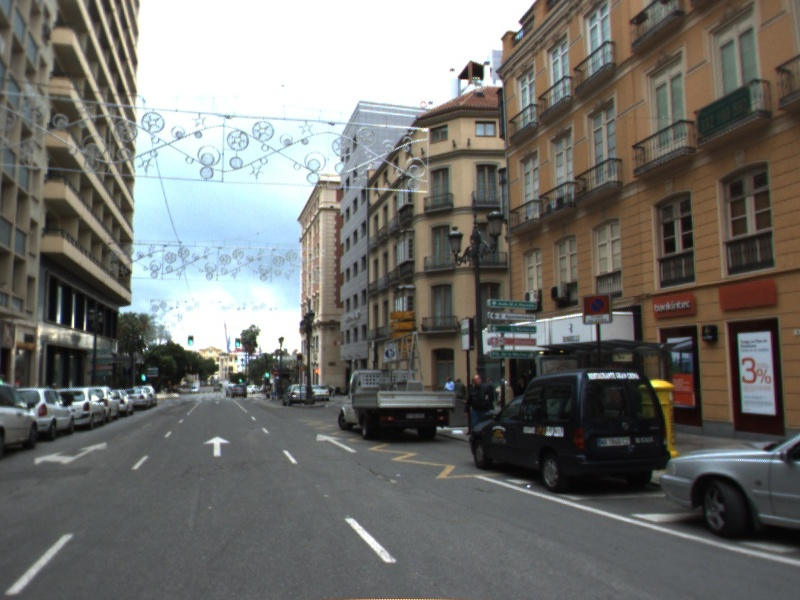STRAIGHT: (314, 432, 361, 455), (201, 434, 233, 458)
STRAIGHT_LEFT: (32, 440, 110, 467)
